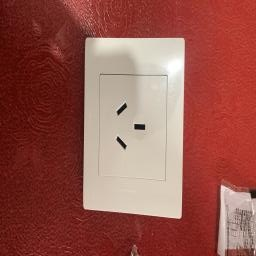outlet: (74, 32, 192, 228)
